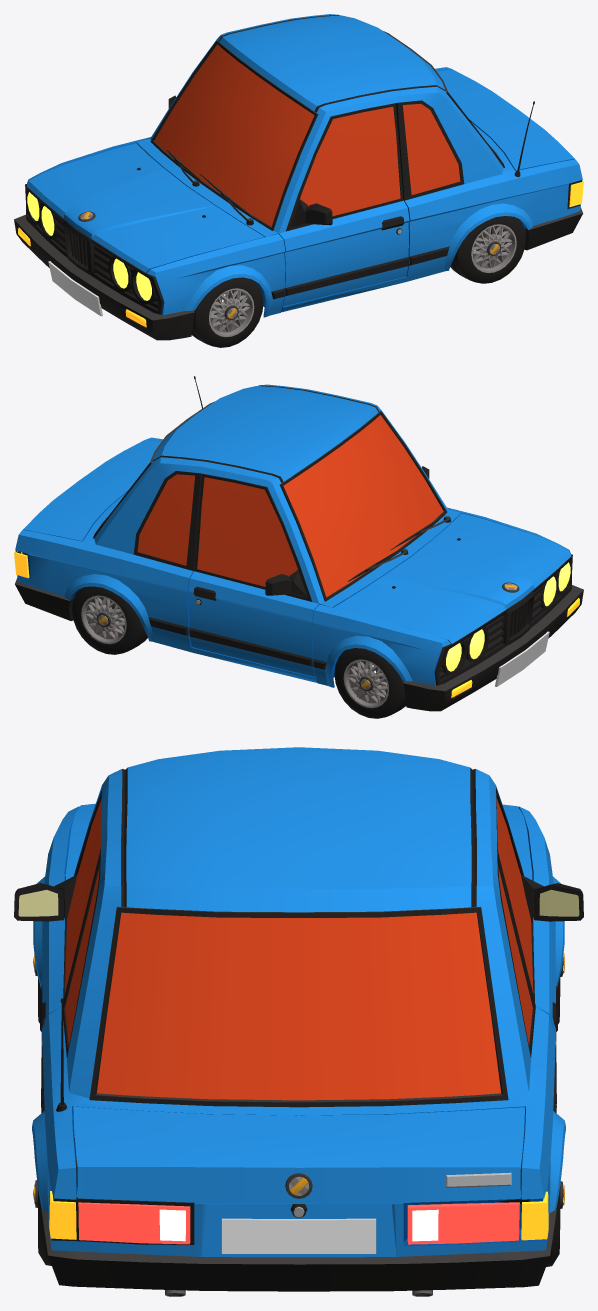
Rendered from Car 1.fbx.
The picture shows the model from 3 angles, top to bottom: view 1: azimuth 30°, elevation 25°; view 2: azimuth 150°, elevation 25°; view 3: azimuth 270°, elevation 25°; orthographic projection. The views are drawn at different scales.
Parts seen in each view (by area): view 1: Body, Doors_FL, Bonet, Fender_FL, Bootlid, Bumper_F, Grill_F, Wheel_FL, Wheel_RL, Bumper_R, Headlights_FL, Headlights_FR; view 2: Body, Doors_FR, Bonet, Fender_FR, Bootlid, Bumper_F, Grill_F, Wheel_FR, Wheel_RR, Bumper_R, Headlights_FR, Headlights_FL; view 3: Body, Bootlid, Bumper_R, Doors_FR, Doors_FL, Lights_RL, Lights_RR, Bonet, Fender_FL, Fender_FR.
Part boxes in pixels (left/top/right/bottom): Body: left=136, top=14, right=582, bottom=312; Doors_FL: left=279, top=103, right=409, bottom=306; Bonet: left=26, top=143, right=264, bottom=272; Fender_FL: left=147, top=234, right=285, bottom=317; Bootlid: left=437, top=69, right=574, bottom=170; Bumper_F: left=14, top=214, right=194, bottom=340; Grill_F: left=25, top=184, right=163, bottom=314; Wheel_FL: left=191, top=277, right=263, bottom=347; Wheel_RL: left=450, top=216, right=525, bottom=283; Bumper_R: left=524, top=207, right=583, bottom=250; Headlights_FL: left=113, top=258, right=151, bottom=300; Headlights_FR: left=27, top=192, right=54, bottom=235; Body: left=15, top=376, right=461, bottom=682; Doors_FR: left=188, top=473, right=319, bottom=676; Bonet: left=333, top=513, right=570, bottom=643; Fender_FR: left=312, top=604, right=450, bottom=687; Bootlid: left=23, top=439, right=161, bottom=541; Bumper_F: left=403, top=585, right=583, bottom=711; Grill_F: left=434, top=554, right=572, bottom=685; Wheel_FR: left=334, top=648, right=406, bottom=718; Wheel_RR: left=72, top=586, right=147, bottom=654; Bumper_R: left=15, top=578, right=73, bottom=620; Headlights_FR: left=446, top=629, right=484, bottom=671; Headlights_FL: left=543, top=562, right=570, bottom=606; Body: left=32, top=747, right=565, bottom=1296; Bootlid: left=73, top=1106, right=524, bottom=1203; Bumper_R: left=41, top=1208, right=556, bottom=1291; Doors_FR: left=496, top=788, right=583, bottom=1104; Doors_FL: left=14, top=790, right=101, bottom=1104; Lights_RL: left=49, top=1191, right=194, bottom=1244; Lights_RR: left=407, top=1191, right=548, bottom=1244; Bonet: left=66, top=803, right=532, bottom=879; Fender_FL: left=33, top=806, right=79, bottom=1003; Fender_FR: left=518, top=806, right=564, bottom=1000.
Bounding box in the file's own units: 213 × 92.94 × 128.
